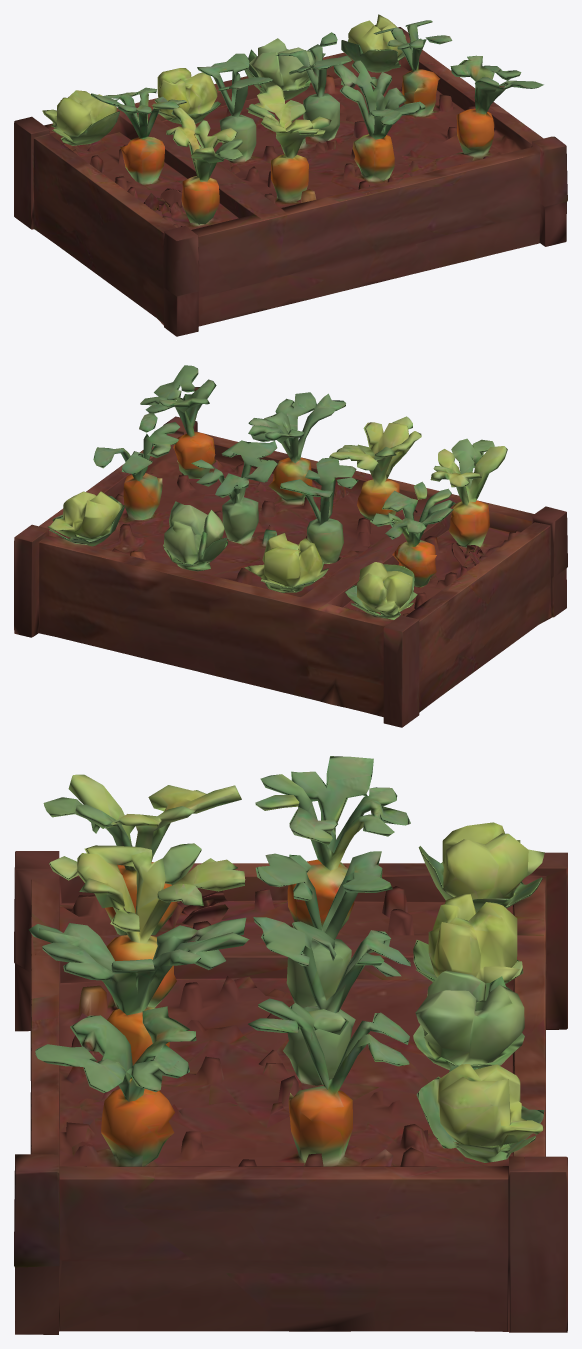
The model's file is gardenbed.glb.
3 renders of one model, top to bottom at view 1: azimuth 30°, elevation 25°; view 2: azimuth 150°, elevation 25°; view 3: azimuth 270°, elevation 25°, orthographic. The views are drawn at different scales.
Parts seen in each view (by area): view 1: GardenbedBody; view 2: GardenbedBody; view 3: GardenbedBody.
Part boxes in pixels (x1=…): GardenbedBody: x1=14, y1=14, x2=567, y2=336; GardenbedBody: x1=14, y1=365, x2=567, y2=727; GardenbedBody: x1=14, y1=756, x2=567, y2=1334.
Bounding box in the file's own units: 3 × 1.23 × 2.18.
1 material, 1 textured.
